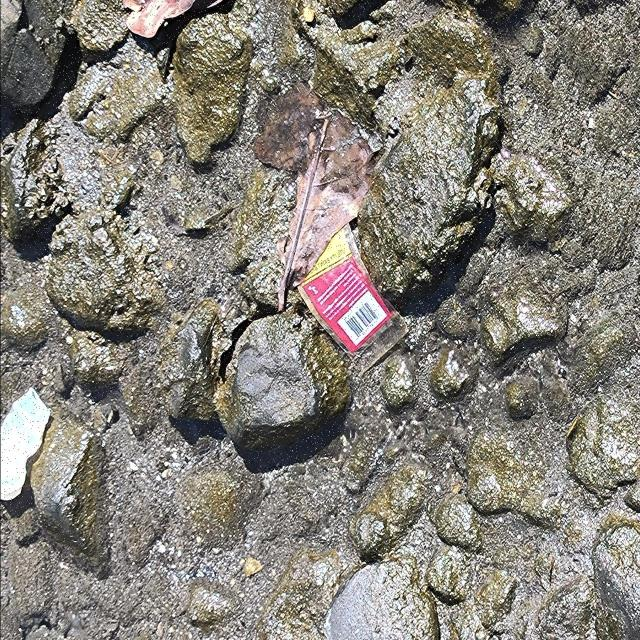plastic_waste: (301, 228, 395, 356)
